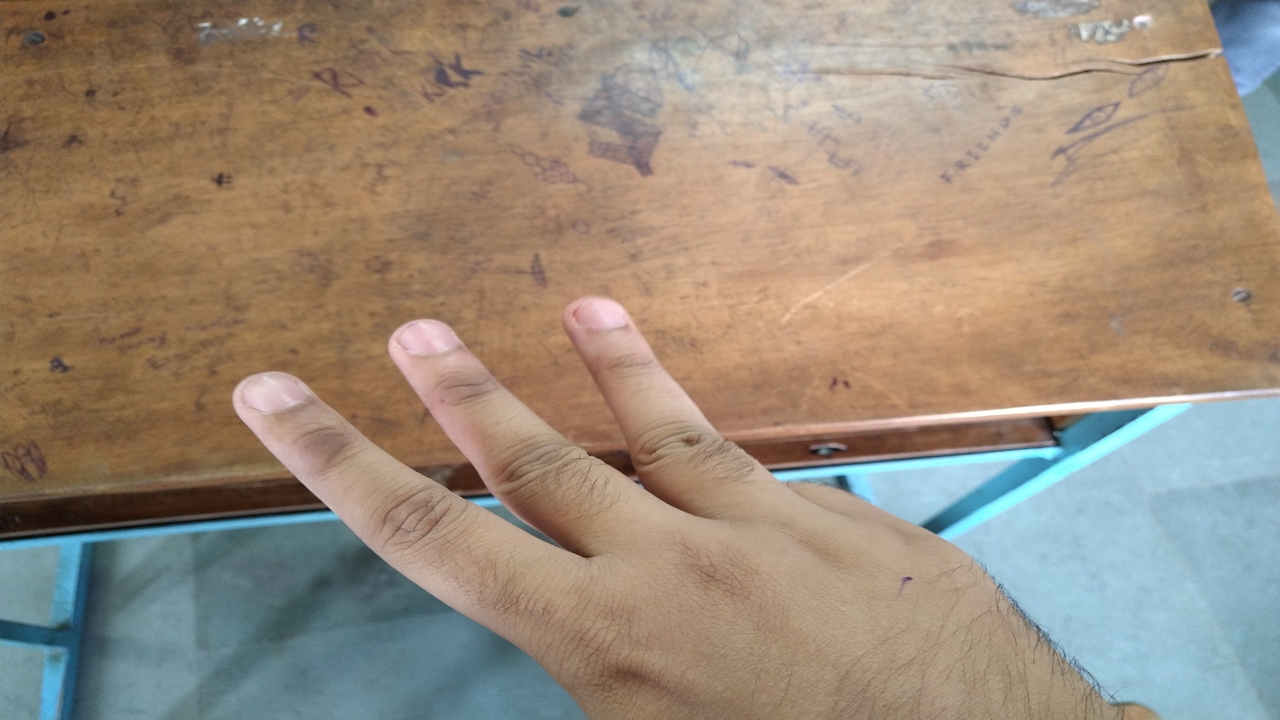fingertip: (208, 364, 310, 436), (364, 316, 484, 375), (550, 294, 628, 350)
